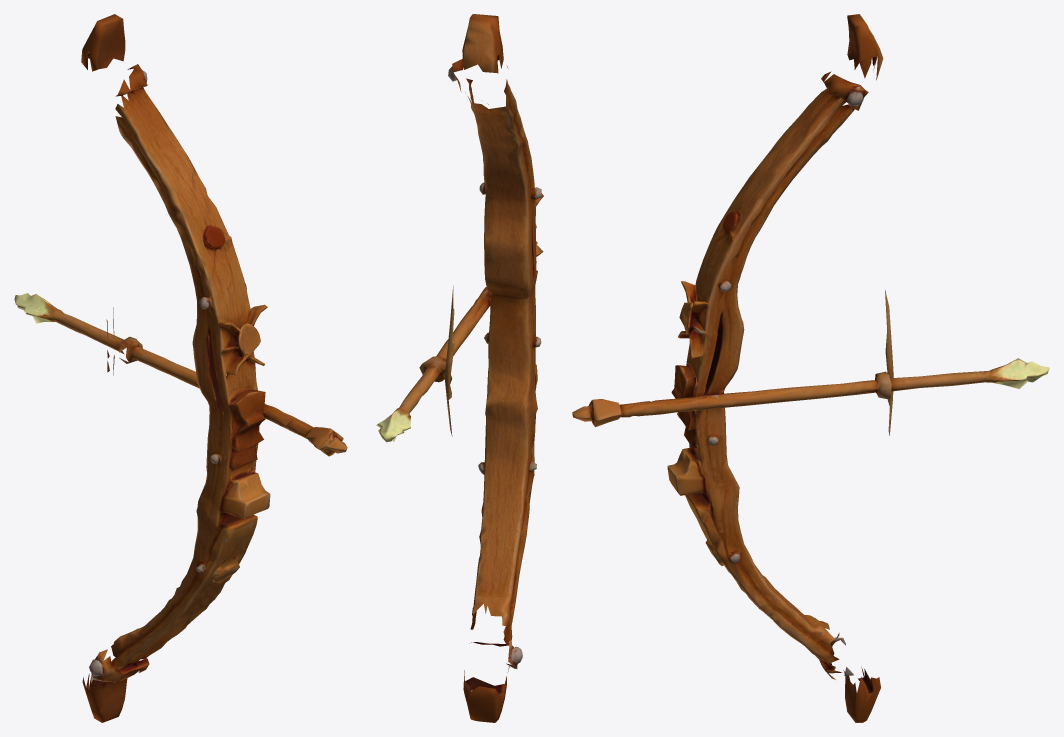
Rendered from bow.glb.
The picture shows the model from 3 angles, left to right: view 1: azimuth 30°, elevation 25°; view 2: azimuth 150°, elevation 25°; view 3: azimuth 270°, elevation 25°; orthographic projection.
Parts seen in each view (by area): view 1: tripo_node_9ff2b1a6-fc5c-49ac-a2ff-49a0519614ad; view 2: tripo_node_9ff2b1a6-fc5c-49ac-a2ff-49a0519614ad; view 3: tripo_node_9ff2b1a6-fc5c-49ac-a2ff-49a0519614ad.
Part boxes in pixels (bbox=[...]): tripo_node_9ff2b1a6-fc5c-49ac-a2ff-49a0519614ad: bbox=[14, 14, 347, 722]; tripo_node_9ff2b1a6-fc5c-49ac-a2ff-49a0519614ad: bbox=[376, 14, 543, 722]; tripo_node_9ff2b1a6-fc5c-49ac-a2ff-49a0519614ad: bbox=[572, 14, 1049, 722].
Size of the model in its own units: 0.1981 by 1 by 0.619.
1 material, 1 textured.
